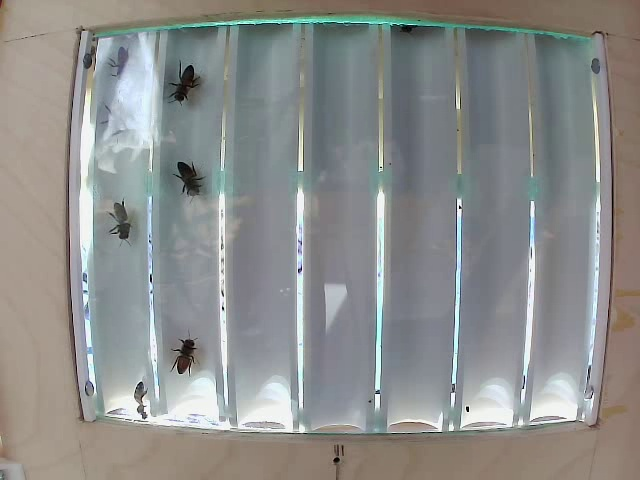bee: (174, 59, 209, 115), (170, 324, 207, 372), (169, 161, 206, 206), (101, 203, 136, 248)
